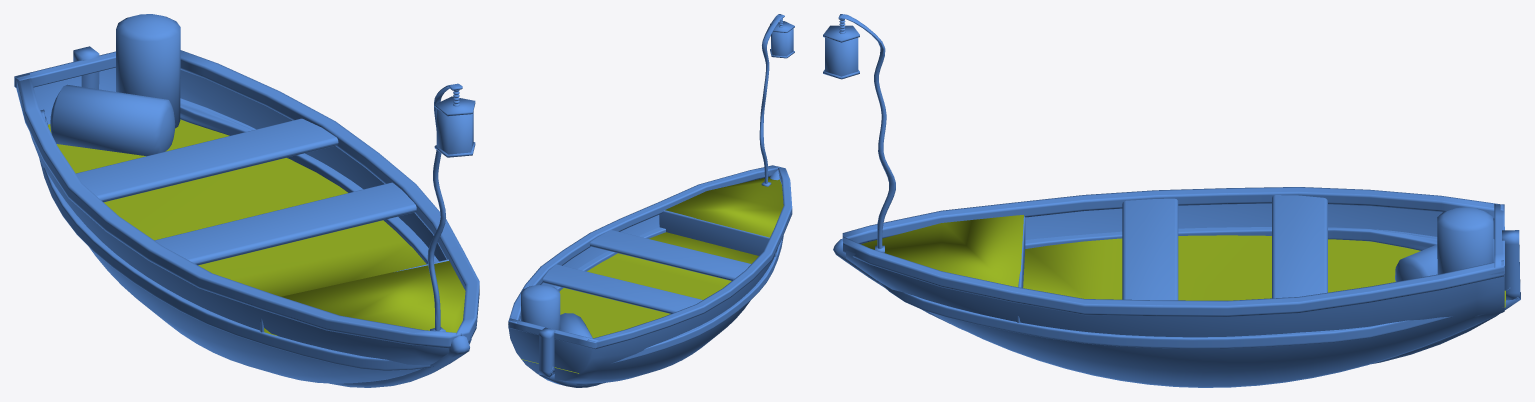
Rendered from Row_Boat.obj.
3 renders of one model, left to right at view 1: azimuth 30°, elevation 25°; view 2: azimuth 150°, elevation 25°; view 3: azimuth 270°, elevation 25°, orthographic. The views are drawn at different scales.
Visible parts, largest first — view 1: Plane001, Cylinder001, Box004, ChamferBox003, ChamferBox001, Box005, OilTank003, Box007, OilTank001, Box008, Box006, Cylinder003 (+4 smaller); view 2: Plane001, Cylinder001, Box004, ChamferBox001, Box005, ChamferBox003, ChamferBox002, OilTank001, Box007, Cylinder005, Box006, Box009 (+3 smaller); view 3: Cylinder001, Plane001, Box005, Box004, Box008, ChamferBox001, ChamferBox003, OilTank001, Box007, Cylinder005, Cylinder003, OilTank003 (+2 smaller).
Boxes of the visible parts, x1,y1,x2,y2 form: Plane001: [48, 119, 465, 335]; Cylinder001: [30, 67, 471, 383]; Box004: [16, 73, 461, 348]; ChamferBox003: [76, 118, 338, 202]; ChamferBox001: [154, 182, 416, 265]; Box005: [180, 50, 479, 342]; OilTank003: [50, 84, 175, 156]; Box007: [39, 109, 430, 370]; OilTank001: [116, 14, 180, 128]; Box008: [180, 98, 438, 366]; Box006: [14, 51, 115, 87]; Cylinder003: [436, 108, 473, 154]; Plane001: [521, 177, 783, 373]; Cylinder001: [508, 215, 777, 382]; Box004: [587, 166, 792, 349]; ChamferBox001: [590, 230, 750, 280]; Box005: [508, 165, 780, 327]; ChamferBox003: [542, 264, 702, 313]; ChamferBox002: [659, 210, 776, 256]; OilTank001: [521, 285, 560, 330]; Box007: [611, 236, 783, 363]; Cylinder005: [759, 14, 784, 183]; Box006: [509, 318, 598, 348]; Box009: [539, 327, 555, 377]; Cylinder001: [846, 203, 1504, 387]; Plane001: [861, 215, 1505, 307]; Box005: [843, 236, 1503, 316]; Box004: [842, 187, 1503, 244]; Box008: [879, 282, 1453, 348]; ChamferBox001: [1122, 198, 1178, 300]; ChamferBox003: [1272, 195, 1327, 298]; OilTank001: [1437, 207, 1493, 316]; Box007: [876, 227, 1437, 281]; Cylinder005: [838, 14, 895, 248]; Cylinder003: [825, 37, 858, 76]; OilTank003: [1395, 239, 1494, 281].
Bounding box in the file's own units: 23.76 × 33.91 × 59.09.
